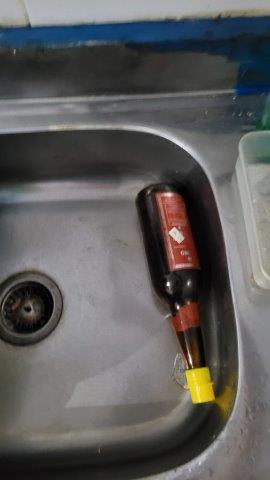botolkaca: (135, 180, 219, 405)
